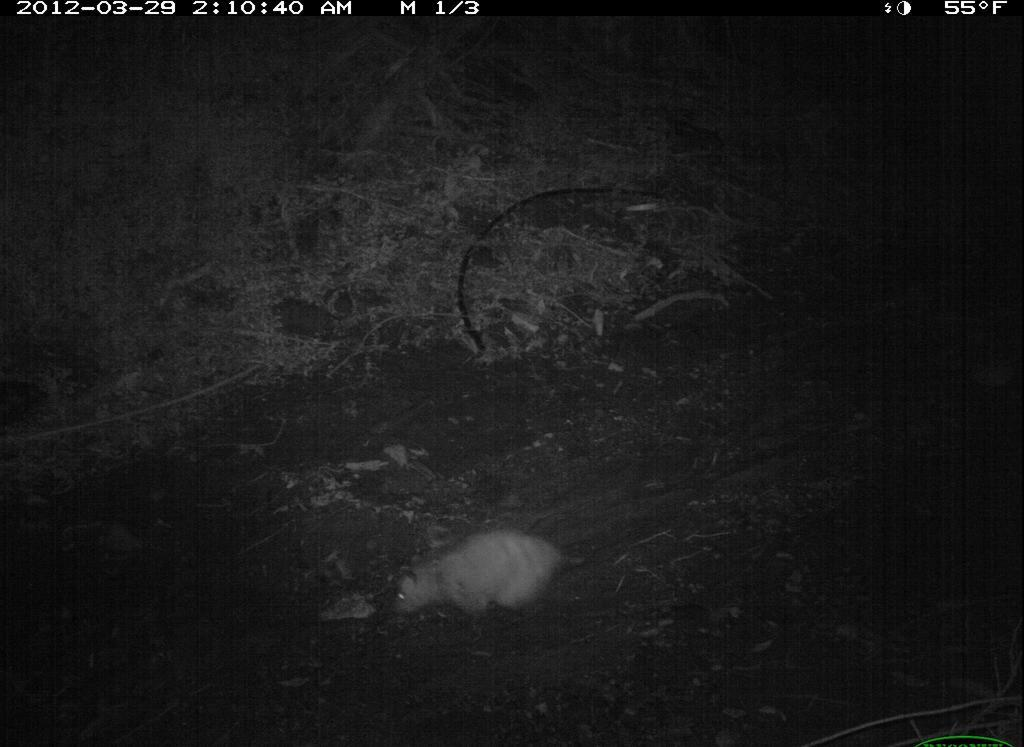opossum: (374, 523, 607, 642)
